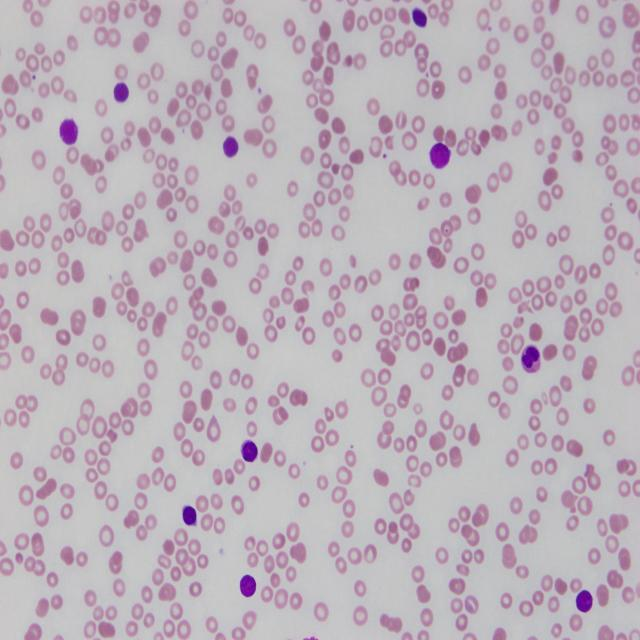cell: (430, 143, 450, 168), (60, 118, 78, 145), (241, 440, 258, 462), (576, 590, 592, 612), (240, 575, 256, 597), (222, 137, 239, 157), (412, 8, 428, 27), (114, 82, 129, 102), (182, 505, 196, 525)
